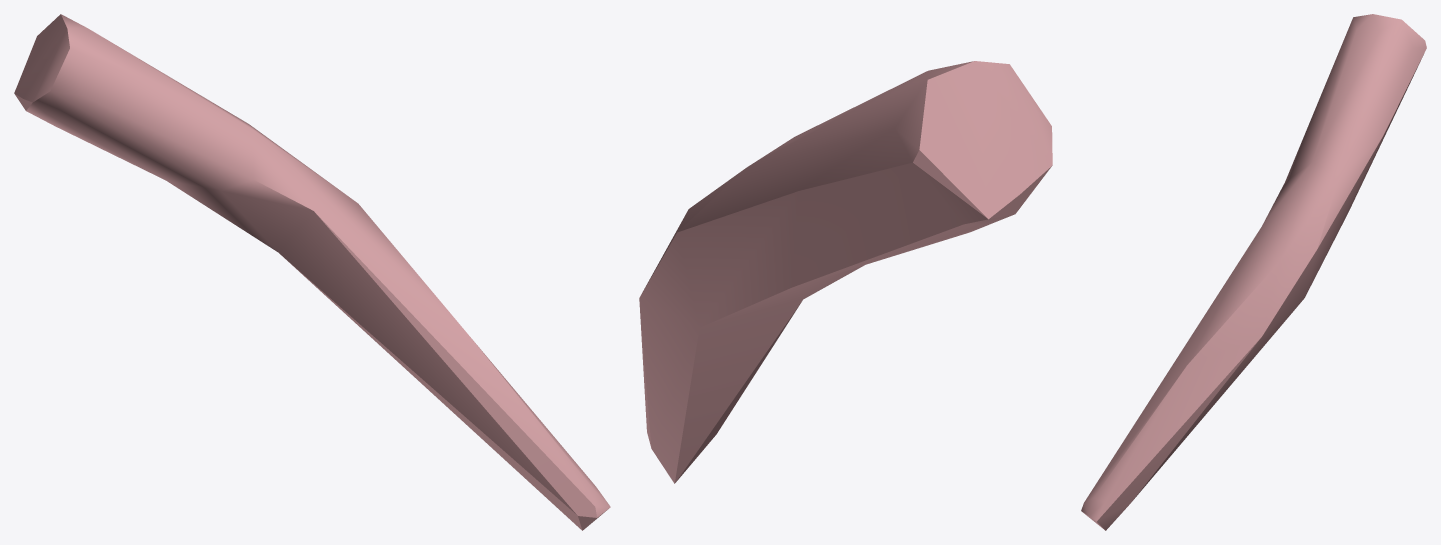
Rendered from fma68222_fj2469.glb.
The picture shows the model from 3 angles, left to right: view 1: azimuth 30°, elevation 25°; view 2: azimuth 150°, elevation 25°; view 3: azimuth 270°, elevation 25°; orthographic projection. The views are drawn at different scales.
Parts seen in each view (by area): view 1: FMA68222_FJ2469; view 2: FMA68222_FJ2469; view 3: FMA68222_FJ2469.
Part boxes in pixels (bbox=[...]): FMA68222_FJ2469: bbox=[14, 14, 610, 530]; FMA68222_FJ2469: bbox=[639, 61, 1052, 483]; FMA68222_FJ2469: bbox=[1081, 14, 1426, 530].
Bounding box in the file's own units: 0.0157 × 0.0169 × 0.014.
